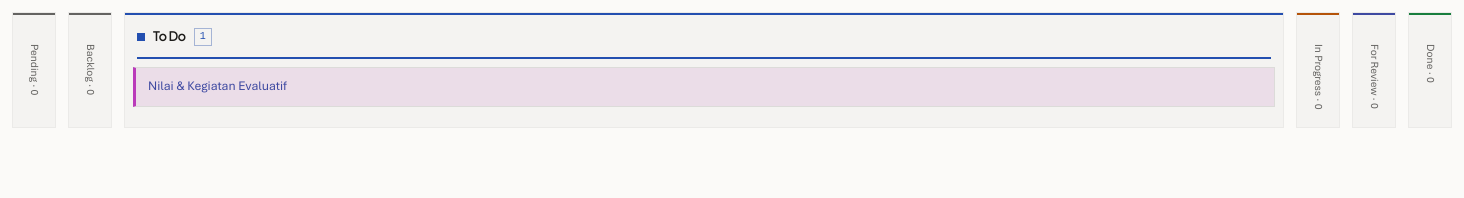
Test: PapanKolom - kartu digabung per sub-modul › tanpa izin ubah menu aksi tidak tersedia dan judul tetap dapat membuka kartu
The image size is (1464, 198).
Click the button with aria-label "Buka kartu D.1 Nilai & Kegiatan Evaluatif": (217, 86) x1=148 y1=78 x2=1262 y2=96
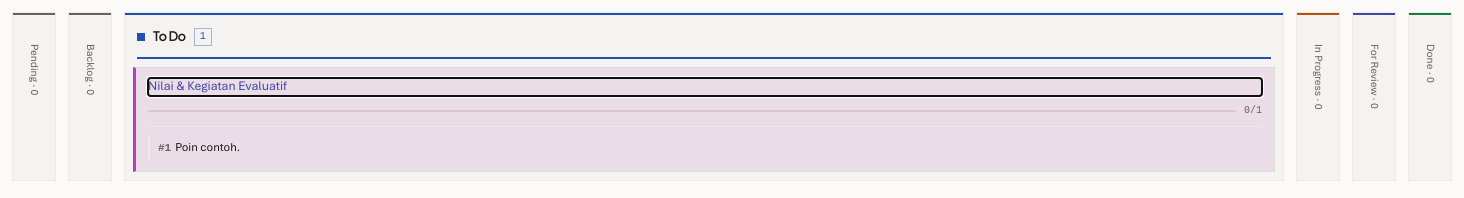
Check: the button with aria-label "Tutup kartu D.1 Nilai & Kegiatan Evaluatif" is expanded, box x1=148 y1=78 x2=1262 y2=96
